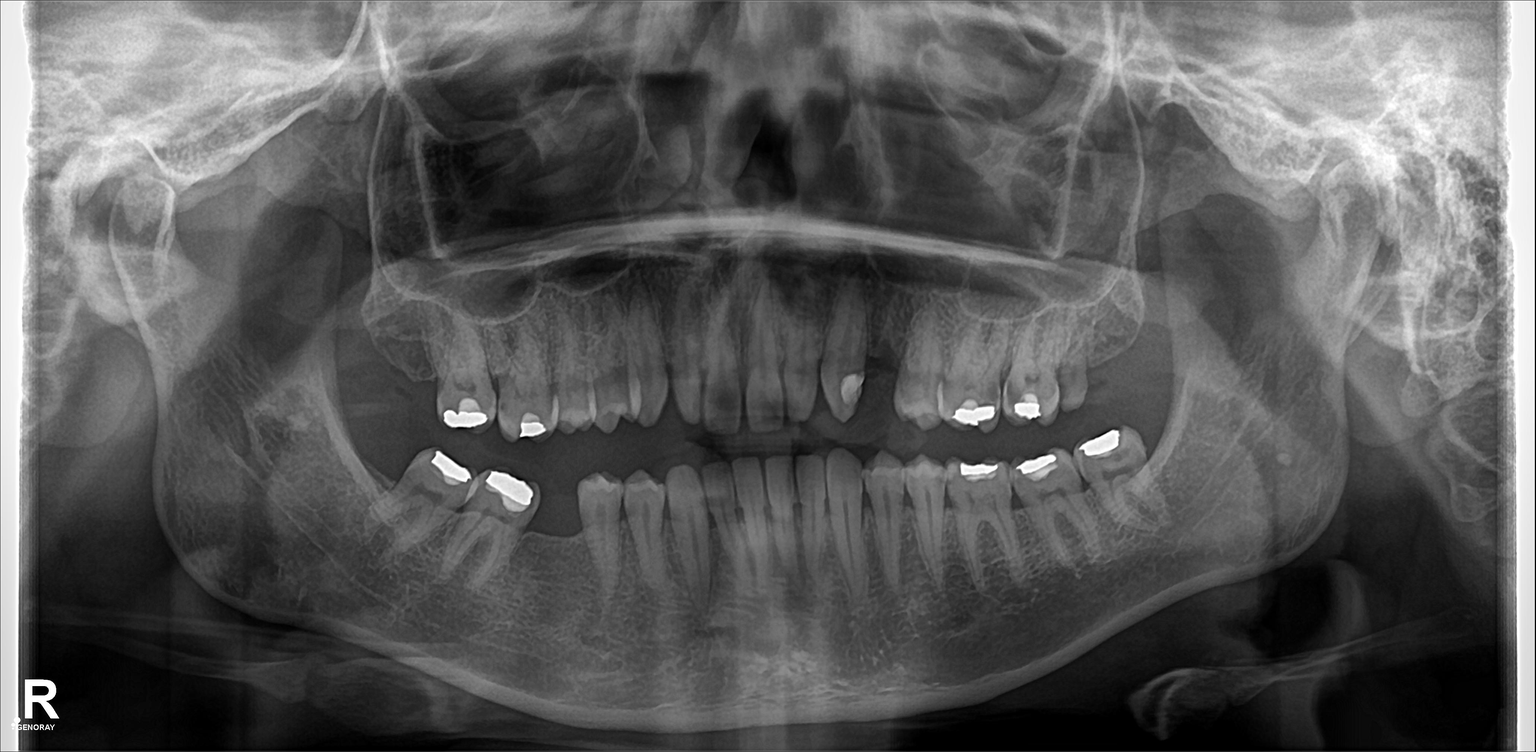Endodontically Treated Tooth: (463, 469, 529, 587)
Missing Tooth: (330, 311, 378, 414), (380, 315, 431, 405), (1104, 294, 1146, 395), (536, 488, 577, 578), (343, 437, 389, 509)
Retained Root: (864, 329, 901, 407), (1061, 333, 1098, 407)
